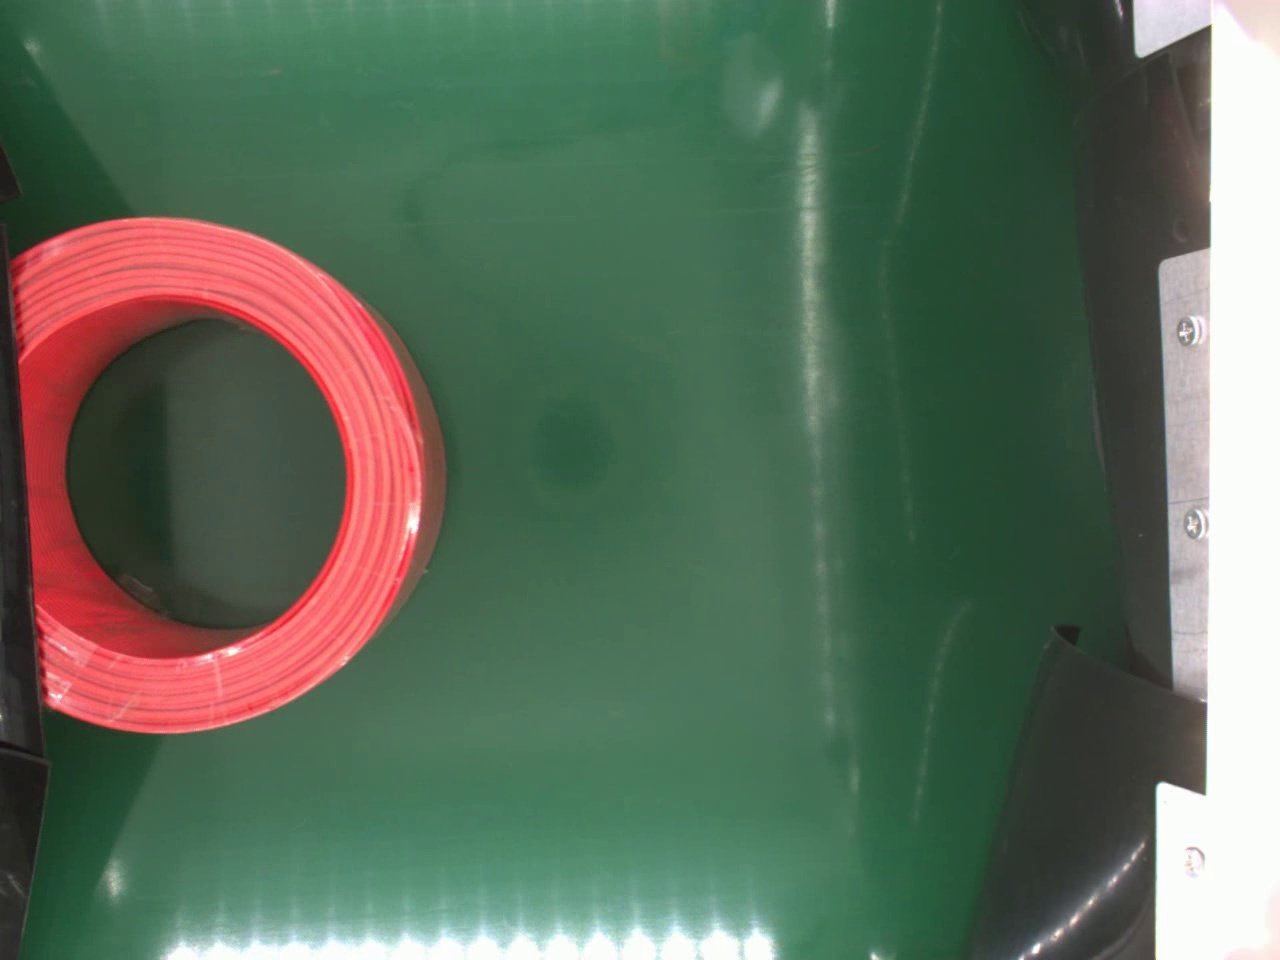red: (0, 210, 450, 739)
